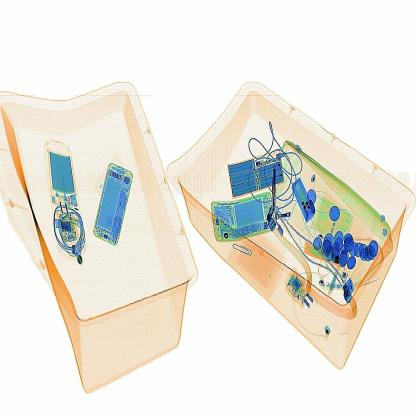knife: (269, 161, 287, 220)
